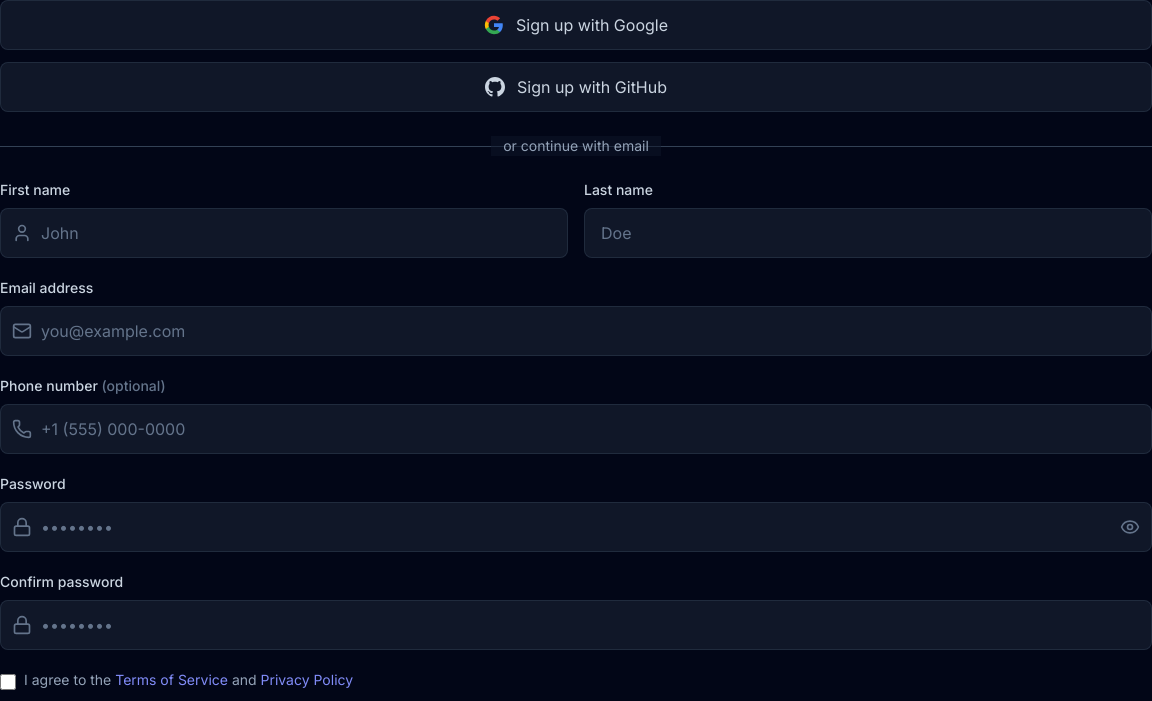
Test: AccountDetailsStep › shows password requirements as user types
Step 1. Type "abc" into the password field labelled "Password" → (576, 527), box [0,502,1151,552]
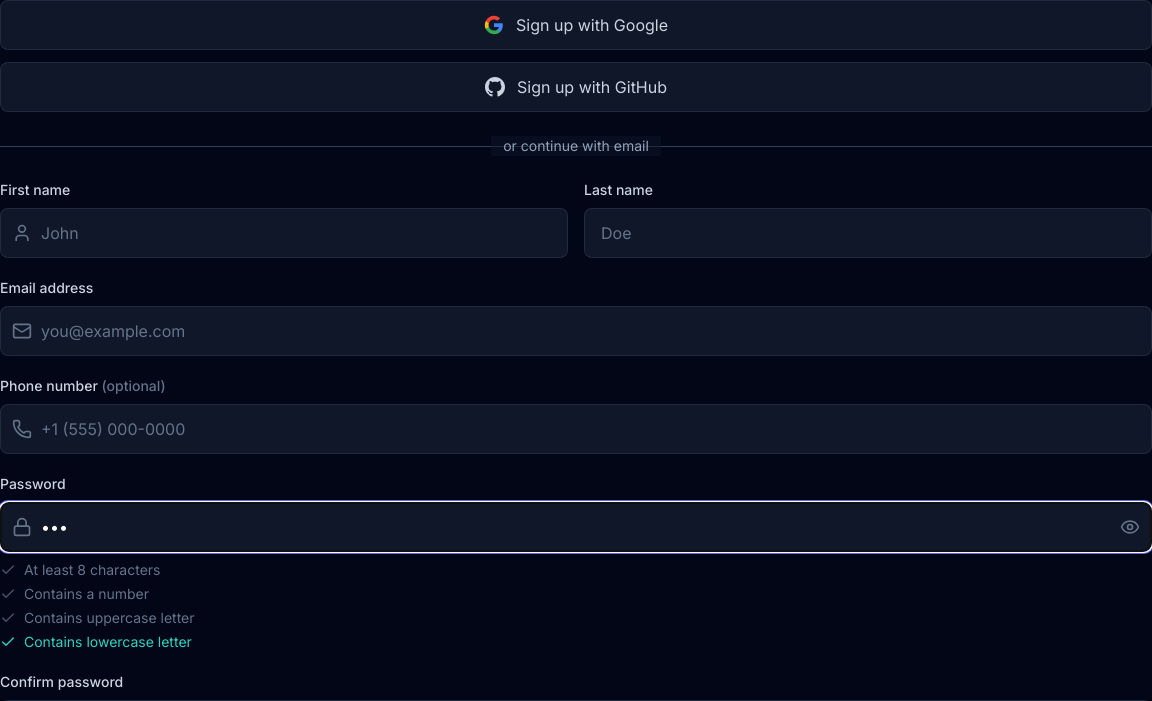
expect the text "At least 8 characters" is shown: met, box [24,560,160,580]
expect the text "Contains a number" is shown: met, box [24,584,149,604]
expect the text "Contains uppercase letter" is shown: met, box [24,608,194,628]
